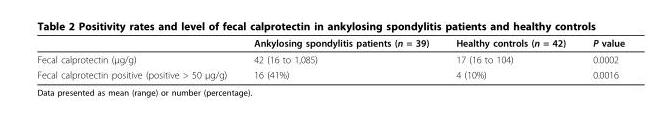table: (36, 36, 624, 79)
table column: (36, 36, 239, 79), (239, 36, 441, 79), (441, 36, 578, 79), (578, 36, 624, 79)
table column header: (36, 36, 624, 50)
table row: (36, 50, 624, 66), (36, 36, 624, 50), (36, 66, 624, 79)
